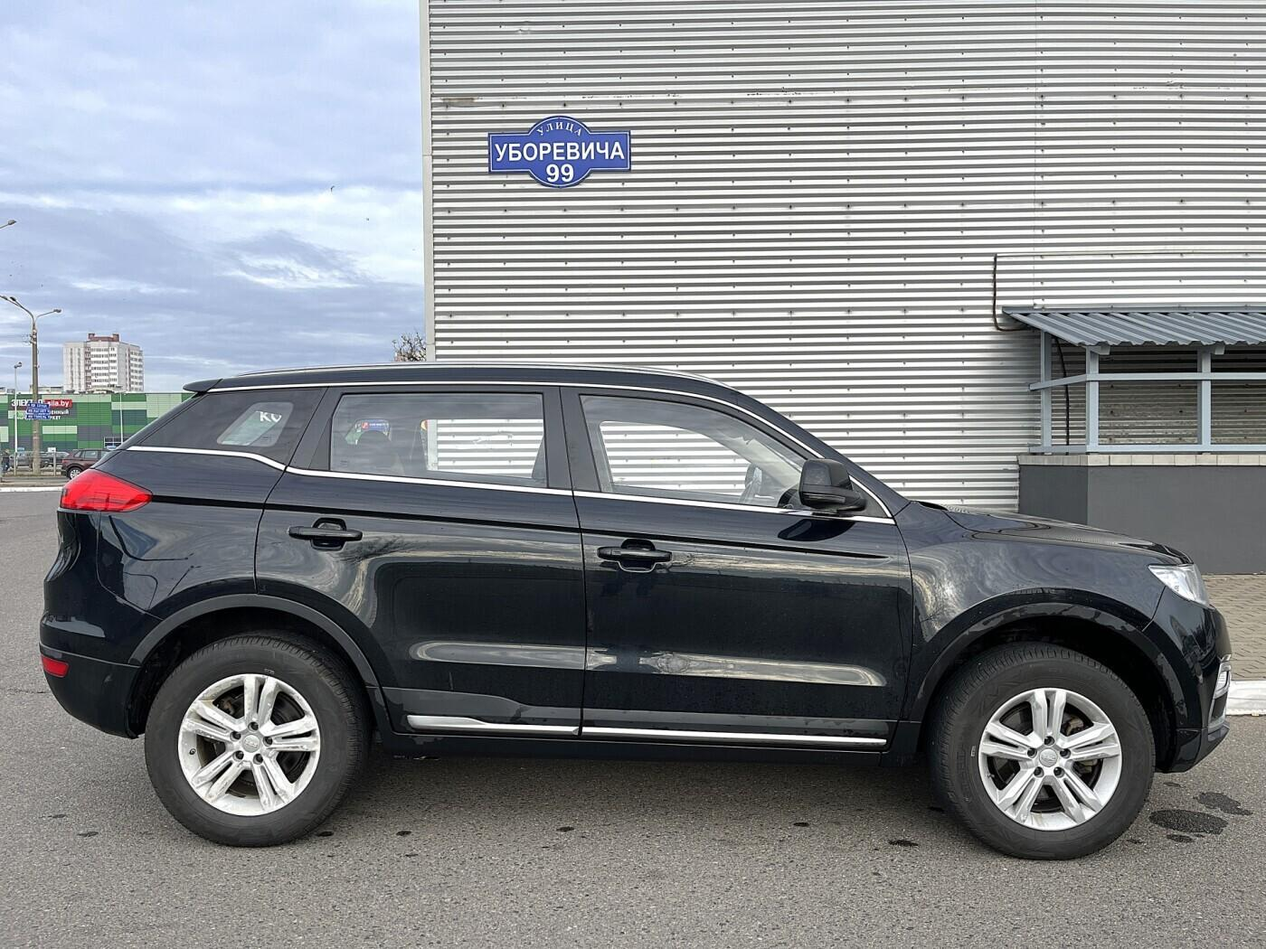Atlas_2016-2023: (35, 362, 1236, 866)
